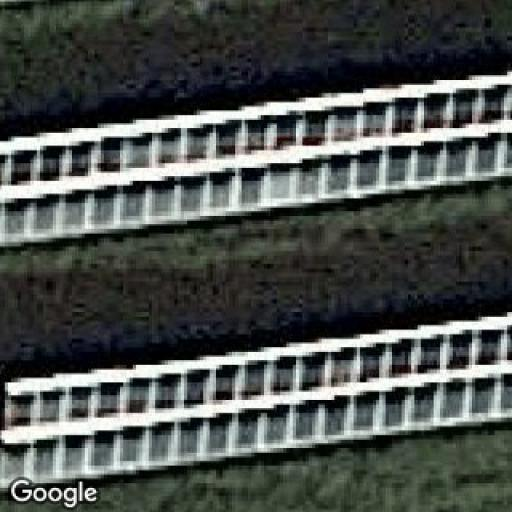solar-panel: (0, 315, 512, 493), (0, 82, 512, 240)
